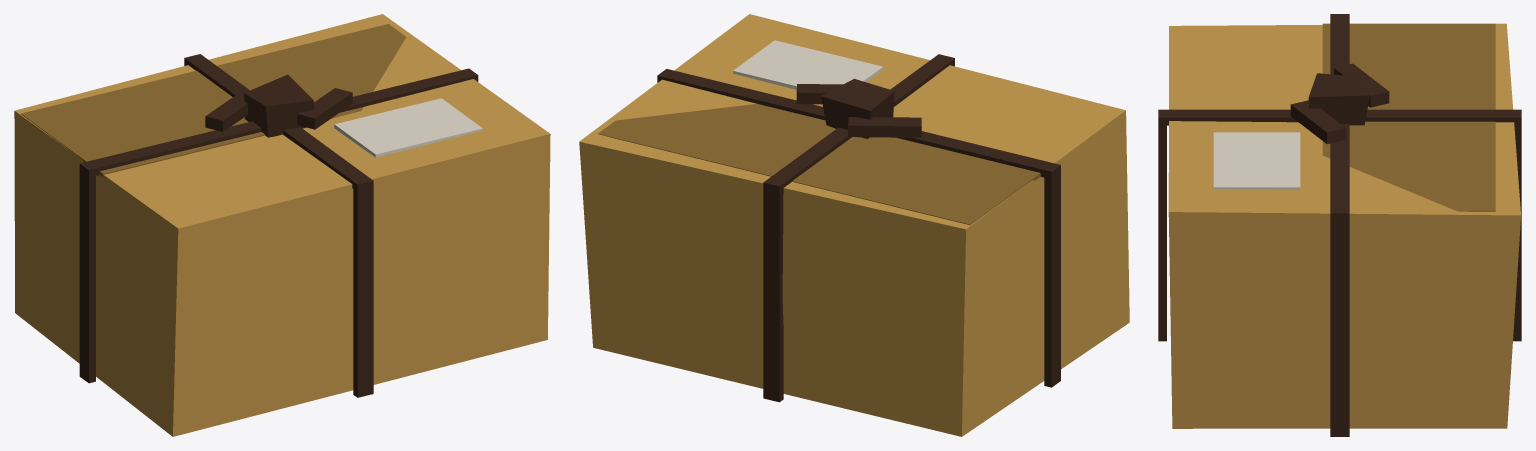
Rendered from parcel.glb.
3 renders of one model, left to right at view 1: azimuth 30°, elevation 25°; view 2: azimuth 150°, elevation 25°; view 3: azimuth 270°, elevation 25°, orthographic. The views are drawn at different scales.
Visible parts, largest first — view 1: parcel; view 2: parcel; view 3: parcel.
Part boxes in pixels (bbox=[...]): parcel: bbox=[14, 14, 550, 436]; parcel: bbox=[579, 14, 1129, 436]; parcel: bbox=[1158, 14, 1521, 436].
Bounding box in the file's own units: 0.436 × 0.2588 × 0.336.
